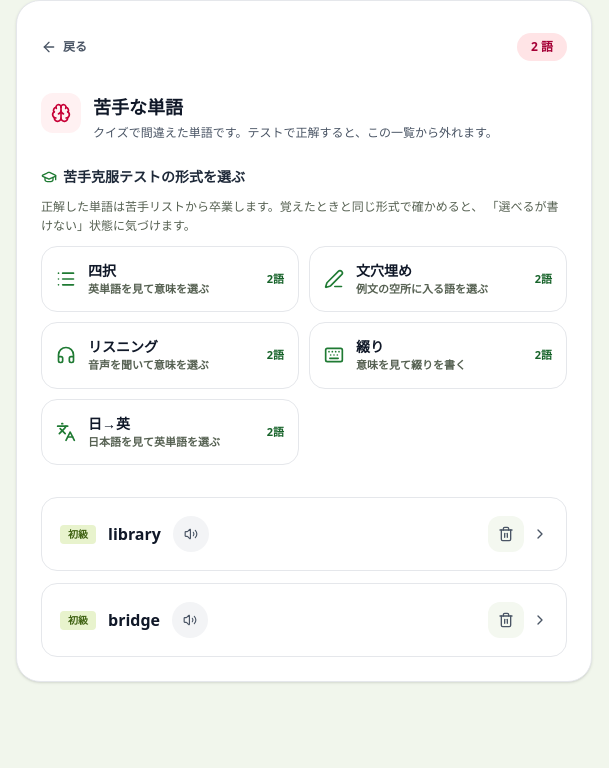
Test: 詳細 › 押すと意味と例文を出す（ここは答えを見せる場所）
This screenshot has width=609, height=768.
Click the text "library".
click(134, 534)  # box [108,522,161,546]
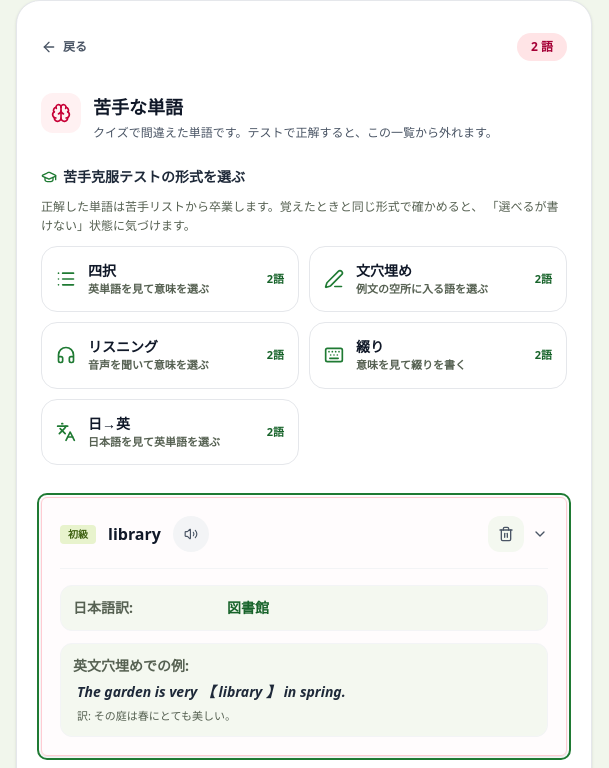
expect the text "図書館" is shown: met, box [227,598,269,617]
expect the text "The garden is very 【 library 】 in spring." is shown: met, box [77,682,346,701]
